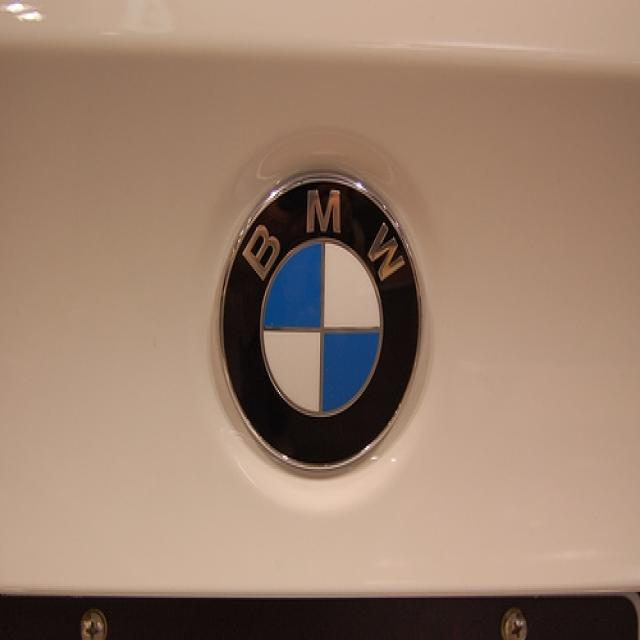bmw: (215, 168, 426, 474)
